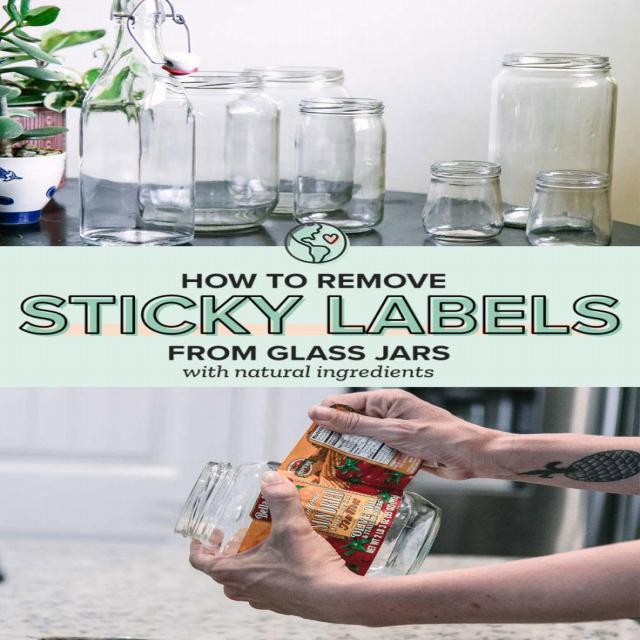non-organic waste: (72, 0, 195, 244), (492, 41, 618, 160), (530, 172, 610, 248), (434, 161, 504, 241)
